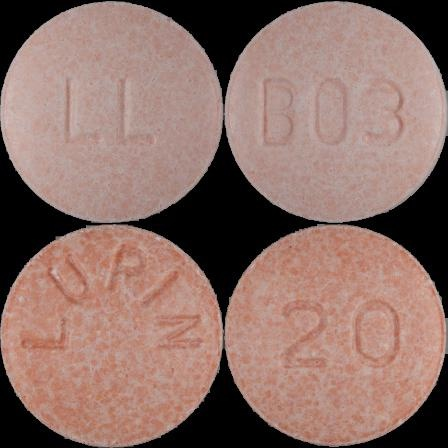10544-237: (0, 0, 224, 224)
